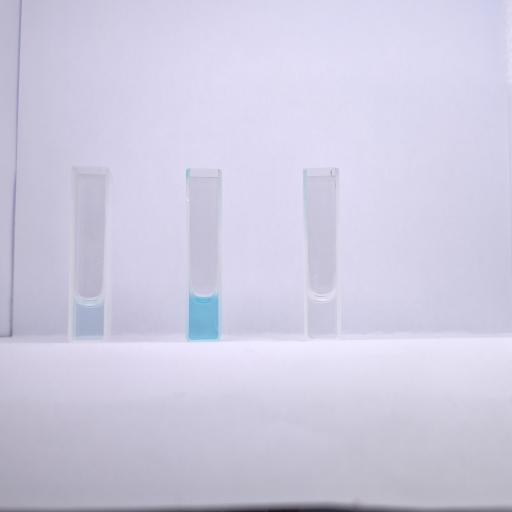cuvette: (66, 164, 112, 343), (300, 165, 343, 341), (184, 166, 223, 344)
liquid: (189, 292, 218, 340), (73, 295, 103, 340), (308, 293, 337, 336)
